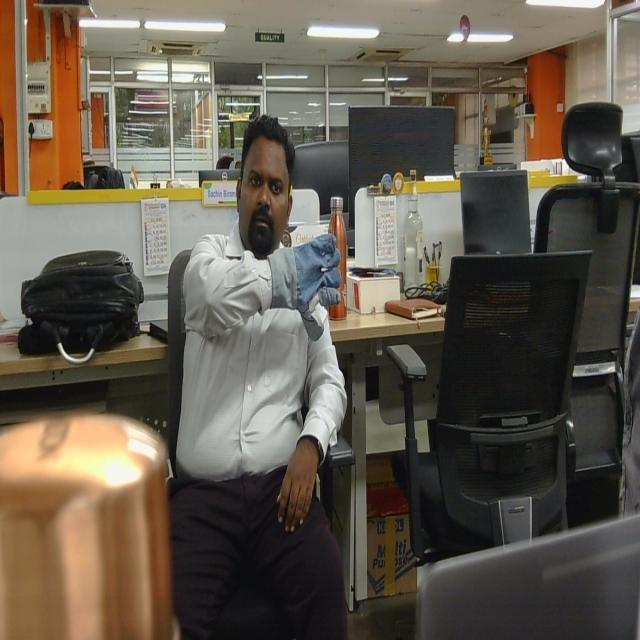Gloves-Detection: (266, 231, 342, 346)
